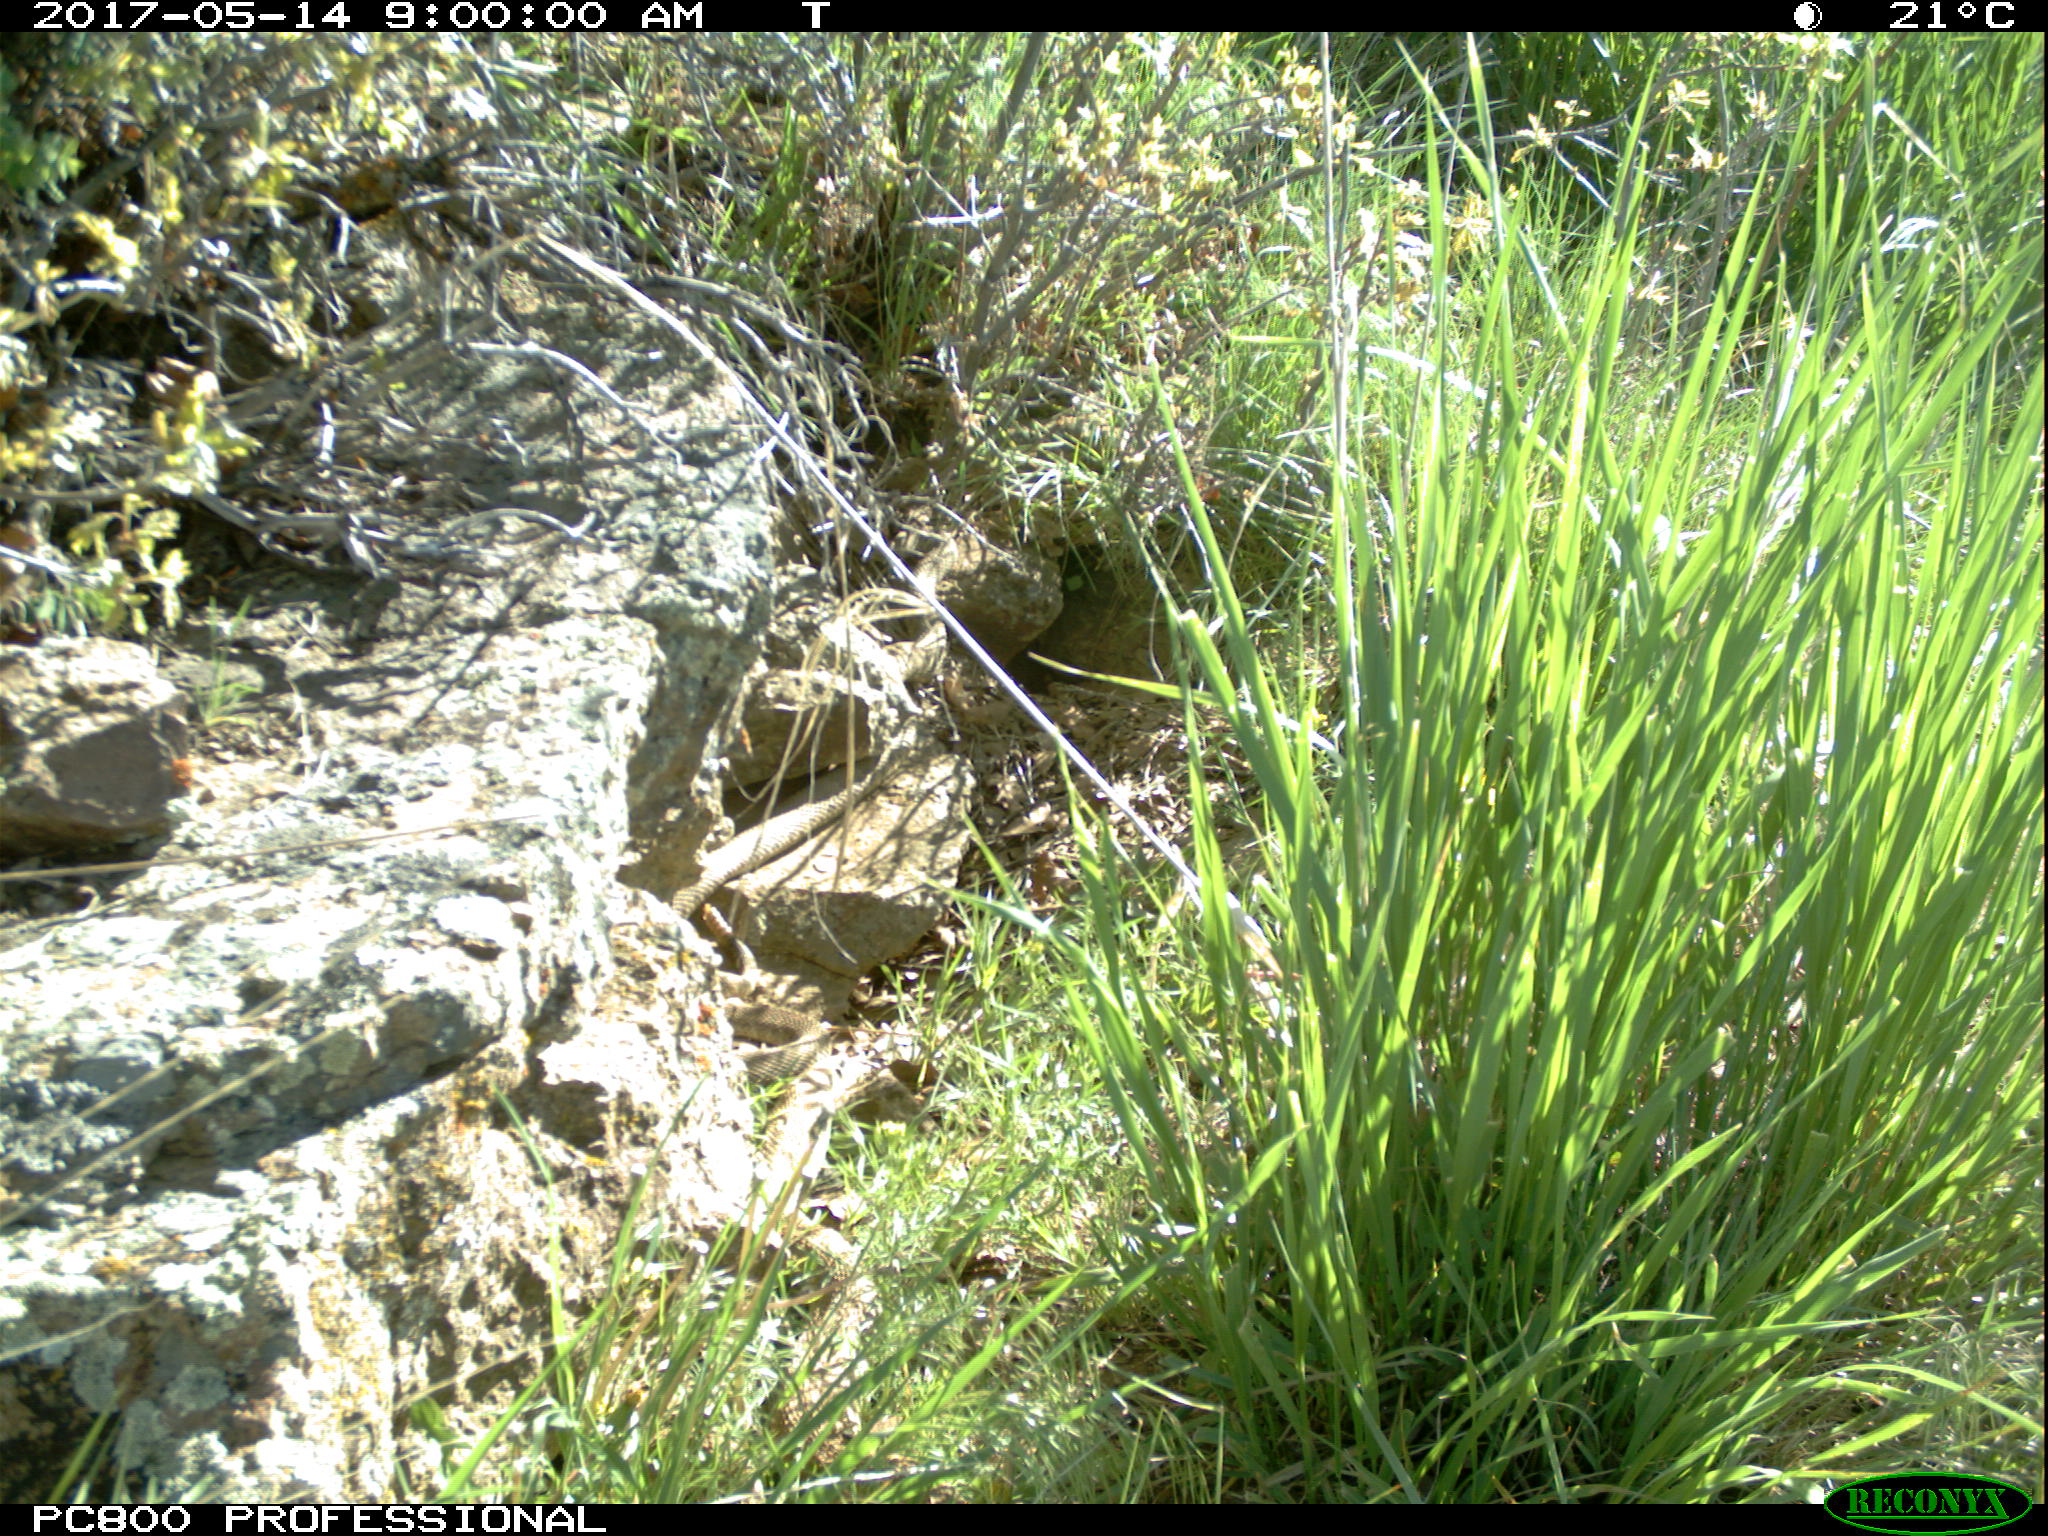snake: (755, 1094, 876, 1455), (663, 749, 889, 921), (718, 991, 834, 1086)
